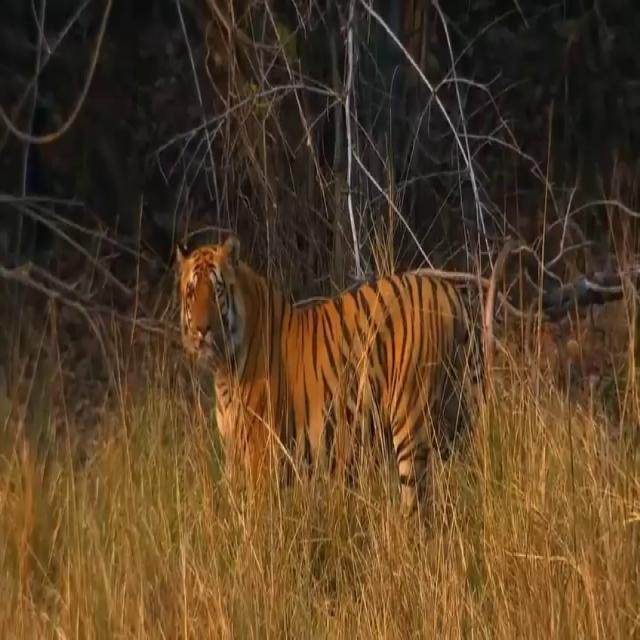tiger: (174, 233, 486, 547)
